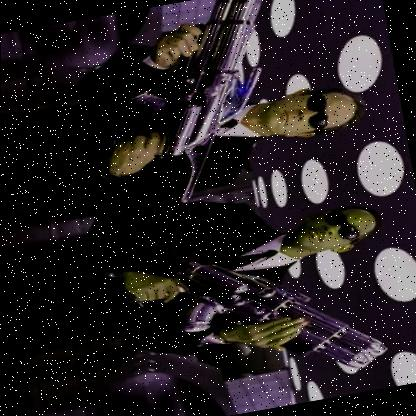rifle: (117, 196, 397, 405), (81, 0, 306, 202)
